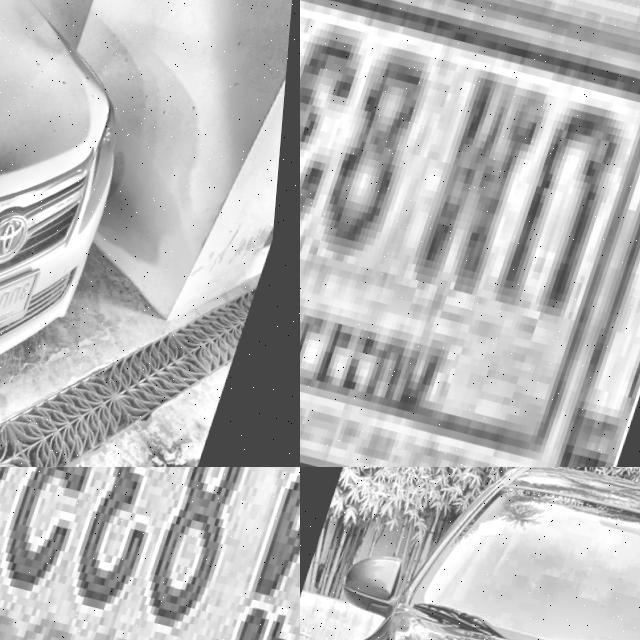license-plate: (300, 0, 640, 467), (0, 467, 300, 640), (0, 249, 49, 375)
